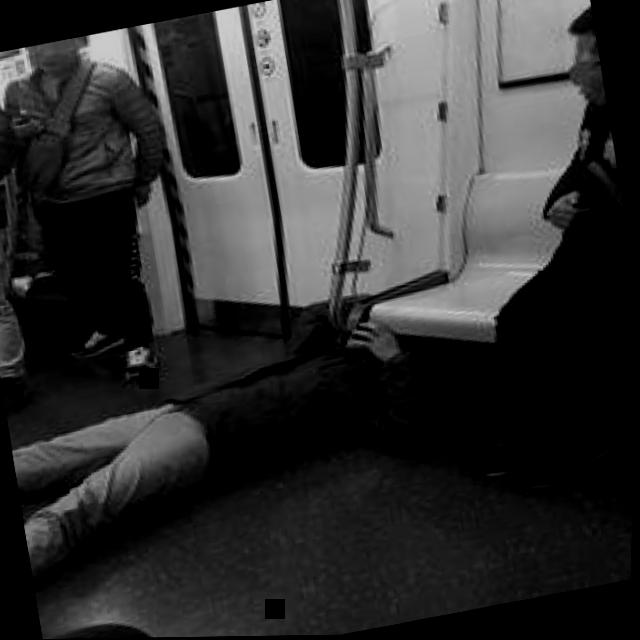Fall-Detected: (0, 260, 481, 609)
